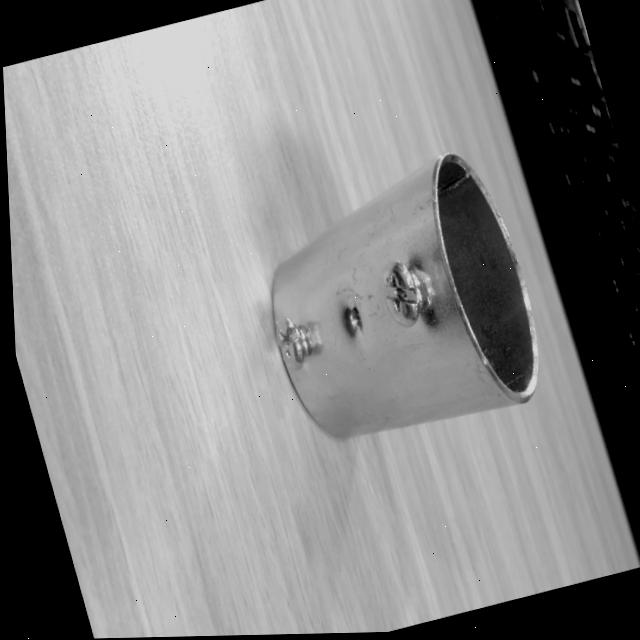Co_Nho: (235, 140, 562, 472)
